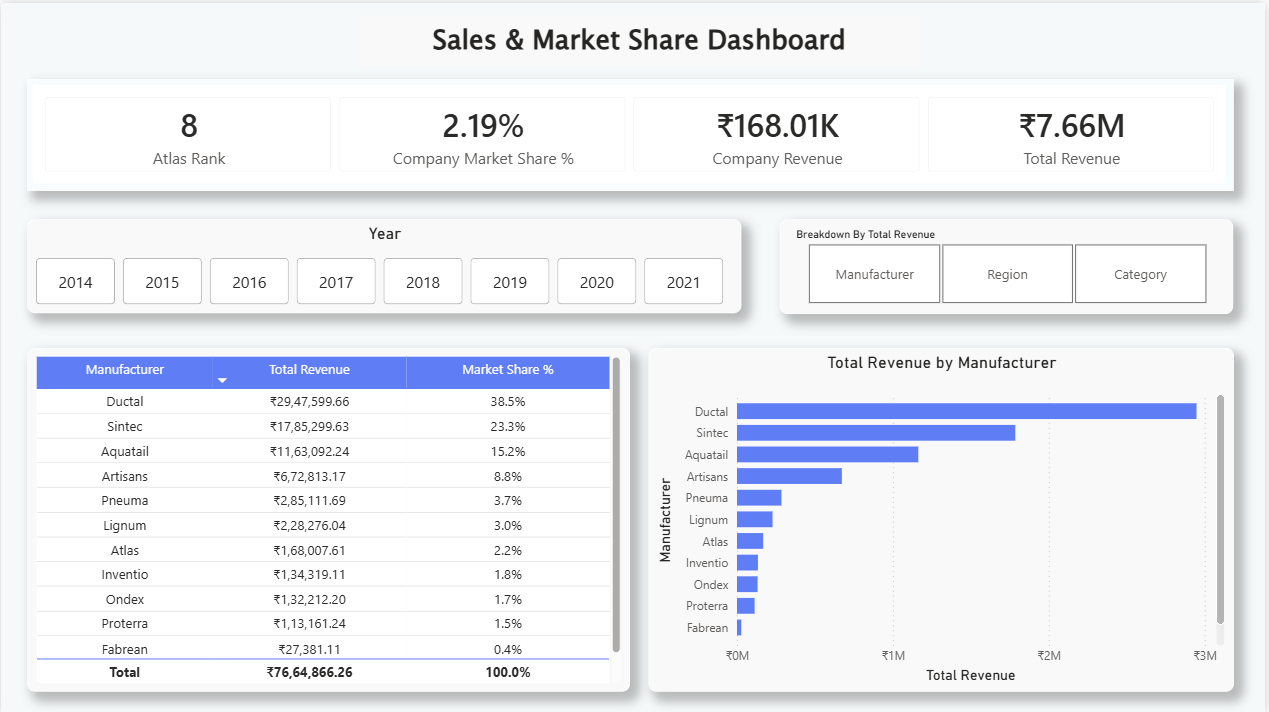

What the dashboard file says about the page in this screenshot:
{"tool":"powerbi","page":{"name":"Market Share Analysis","canvas":[1280,720],"ordinal":0},"visuals":[{"type":"cardVisual","fields":{"Data":["_Measures.Atlas Rank","_Measures.Company Market Share %","_Measures.Company Revenue","_Measures.Total Revenue"]},"box":[26.6,77.2,1221.5,112.7],"z":1000},{"type":"advancedSlicerVisual","fields":{"Values":["Dim_Date.Year"]},"box":[26.3,219.2,722.8,95.2],"z":4000},{"type":"tableEx","fields":{"Values":["Dim_Manufacturer.Manufacturer","_Measures.Total Revenue","_Measures.Market Share %"]},"box":[26.6,349.4,610.1,348.2],"z":5000},{"type":"textbox","box":[362,12.5,568.7,52.6],"z":6000},{"type":"slicer","fields":{"Values":["Breakdown By Total Revenue.Breakdown By Total Revenue"]},"box":[788.6,219,459.5,96.2],"z":7000},{"type":"clusteredBarChart","fields":{"Category":["Dim_Manufacturer.Manufacturer","Dim_Geography.Region","Dim_Product.Category"],"Y":["_Measures.Total Revenue"]},"box":[655.7,349.4,592.4,348.1],"z":8000}]}

Visuals, with their boxes in screenshot pixels (x1, y1, x2, y2), scaled from the page's 1280x720 canvas onto the 1269x712 screenshot:
cardVisual - _Measures.Atlas Rank x _Measures.Company Market Share %: locate(26, 76, 1237, 188)
advancedSlicerVisual - Dim_Date.Year: locate(26, 217, 743, 311)
tableEx - Dim_Manufacturer.Manufacturer x _Measures.Total Revenue: locate(26, 346, 631, 690)
textbox: locate(359, 12, 923, 64)
slicer - Breakdown By Total Revenue.Breakdown By Total Revenue: locate(782, 217, 1237, 312)
clusteredBarChart - Dim_Manufacturer.Manufacturer x Dim_Geography.Region: locate(650, 346, 1237, 690)
